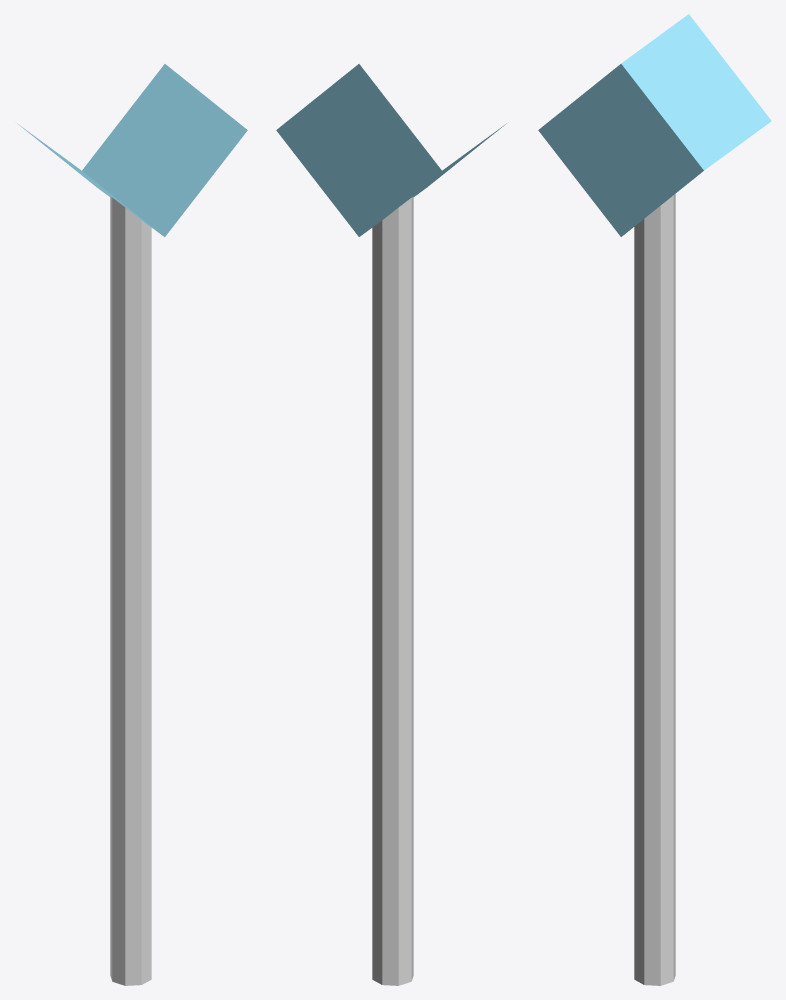
File: winter-wyvern.glb
The picture shows the model from 3 angles, left to right: view 1: azimuth 30°, elevation 25°; view 2: azimuth 150°, elevation 25°; view 3: azimuth 330°, elevation 25°; orthographic projection.
Visible parts, largest first — view 1: winter-wyvern-shaft, winter-wyvern-head-gem; view 2: winter-wyvern-shaft, winter-wyvern-head-gem; view 3: winter-wyvern-shaft, winter-wyvern-head-gem.
Part boxes in pixels (x1,y1,x2,y2): winter-wyvern-shaft: (110, 196, 151, 985); winter-wyvern-head-gem: (17, 64, 247, 236); winter-wyvern-shaft: (372, 196, 413, 985); winter-wyvern-head-gem: (276, 64, 506, 236); winter-wyvern-shaft: (634, 194, 675, 985); winter-wyvern-head-gem: (538, 14, 771, 236).
Bounding box in the file's own units: 0.3111 × 1.68 × 0.22.
